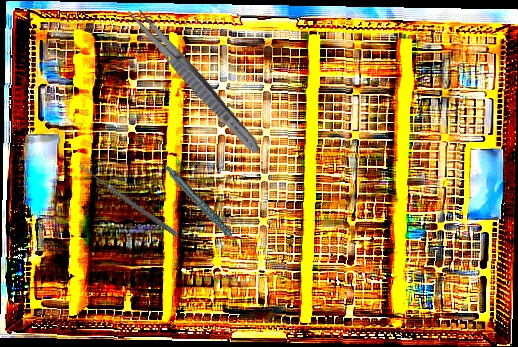Dressing Forceps: (123, 2, 265, 158)
Handpiece: (164, 153, 243, 264)
Surgical Spoon: (77, 163, 179, 237)
